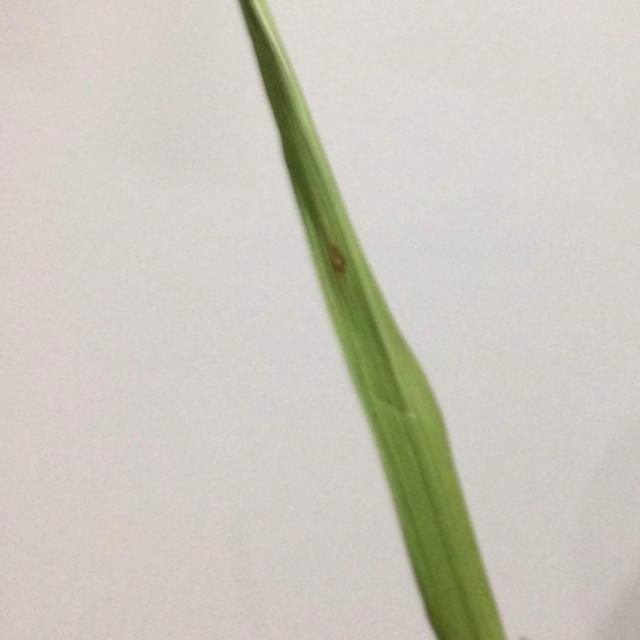Blast: (319, 245, 360, 286)
